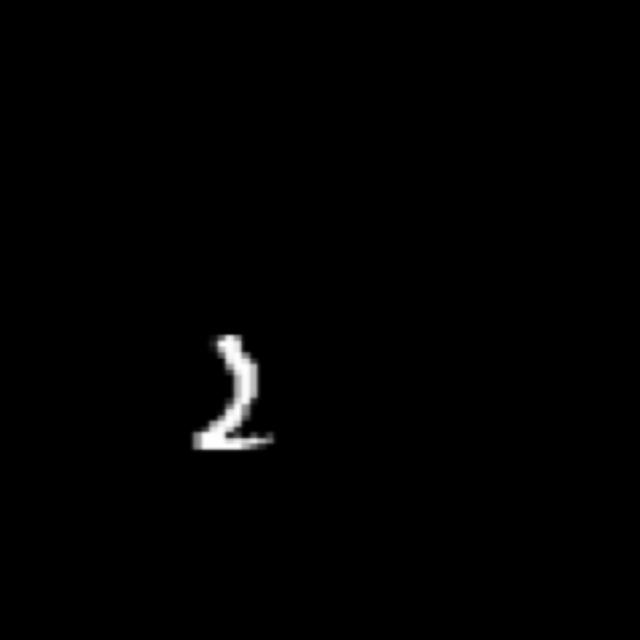two -2-: (178, 321, 276, 461)
